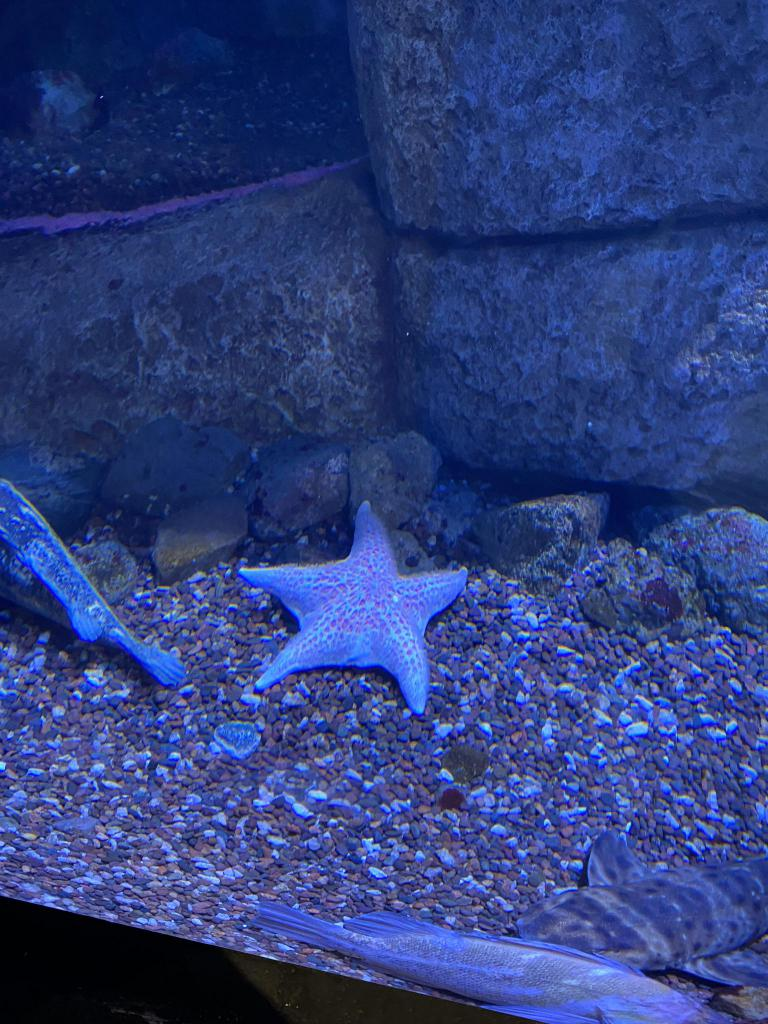fish: (258, 881, 754, 1023), (0, 470, 196, 690)
starfish: (249, 516, 470, 720)
